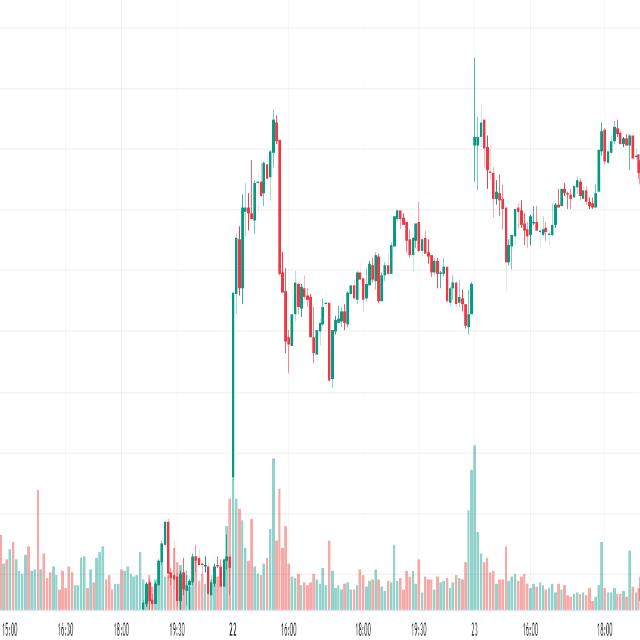Channel-down: (384, 171, 492, 358), (263, 251, 357, 406)
Channel-up: (219, 68, 288, 342)
